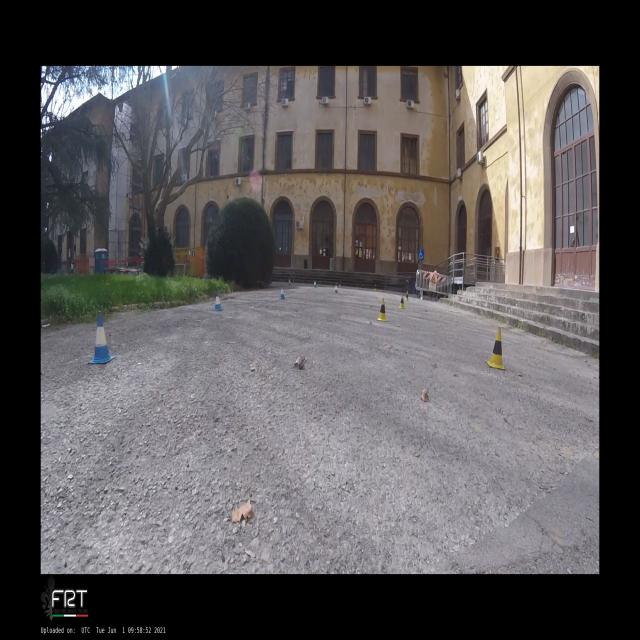blue_cone: (88, 312, 115, 364), (212, 291, 223, 311), (278, 285, 286, 300), (334, 283, 339, 294), (313, 280, 317, 288), (288, 280, 291, 285)
yellow_cone: (488, 327, 506, 369), (377, 298, 388, 321), (398, 294, 405, 308), (404, 291, 408, 301), (339, 280, 341, 287), (374, 284, 376, 291)
